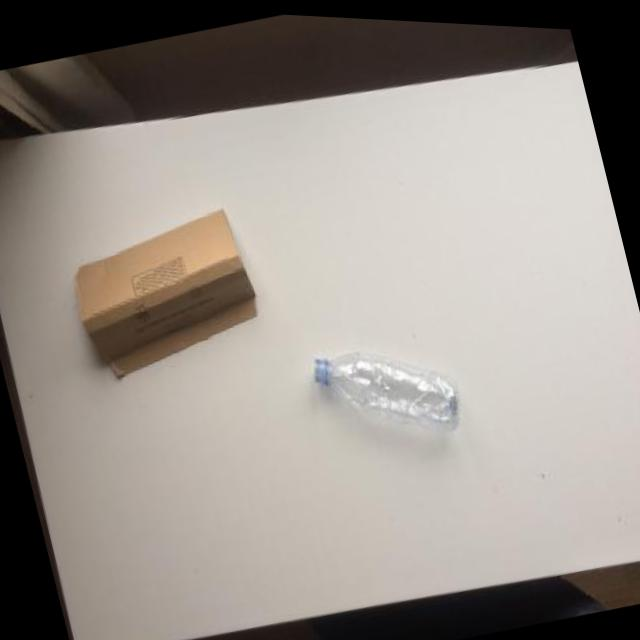cardboard: (61, 196, 269, 389)
plastic: (308, 324, 466, 462)
